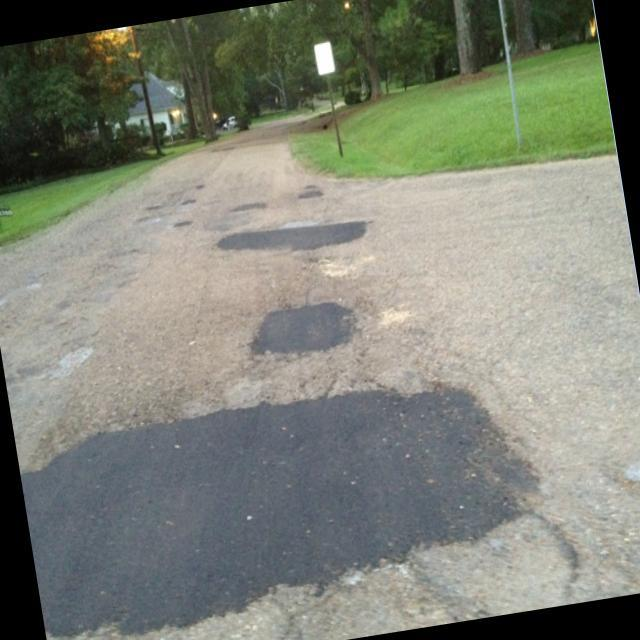Pothole: (14, 349, 551, 640), (218, 195, 406, 272), (240, 274, 359, 348)
